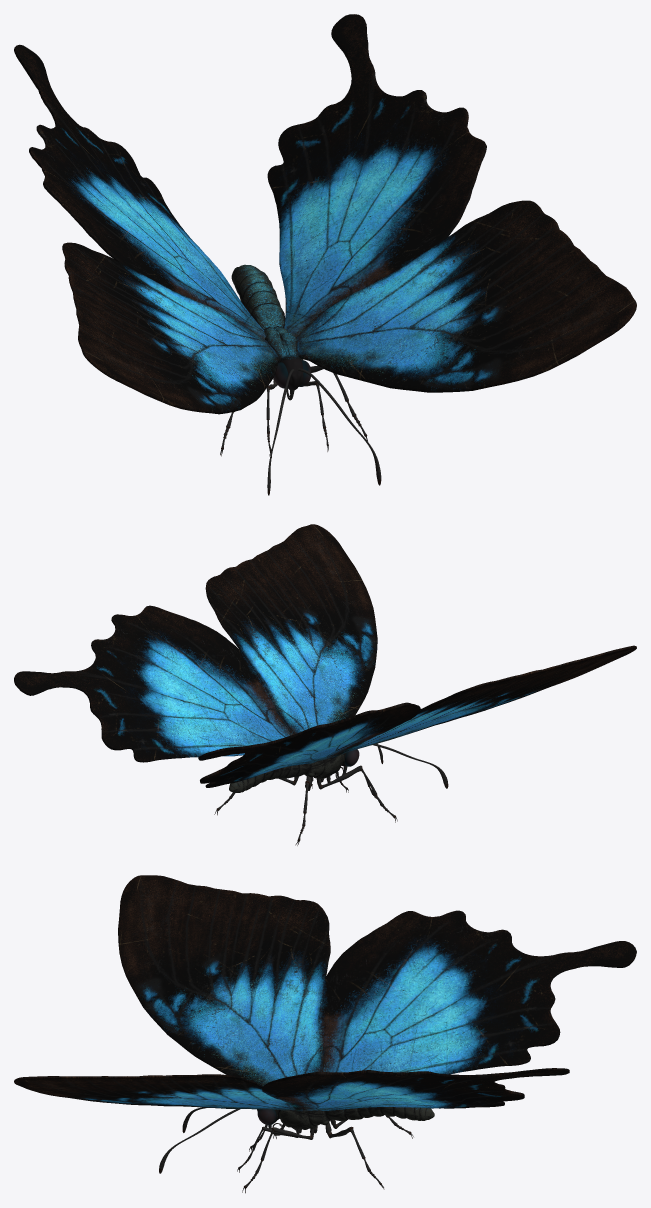
Rendered from blue_butterfly_3d_model.glb.
3 views of the same model, one above another, from view 1: azimuth 30°, elevation 25°; view 2: azimuth 150°, elevation 25°; view 3: azimuth 270°, elevation 25° (orthographic). The views are drawn at different scales.
Parts seen in each view (by area): view 1: node_id73_1; view 2: node_id73_1; view 3: node_id73_1.
Boxes of the visible parts, x1,y1,x2,y2 form: node_id73_1: [14, 14, 636, 495]; node_id73_1: [14, 524, 636, 845]; node_id73_1: [14, 875, 636, 1193].
Bounding box in the file's own units: 0.5479 × 0.248 × 0.6811.
Materials: 1 (1 with a texture image).
